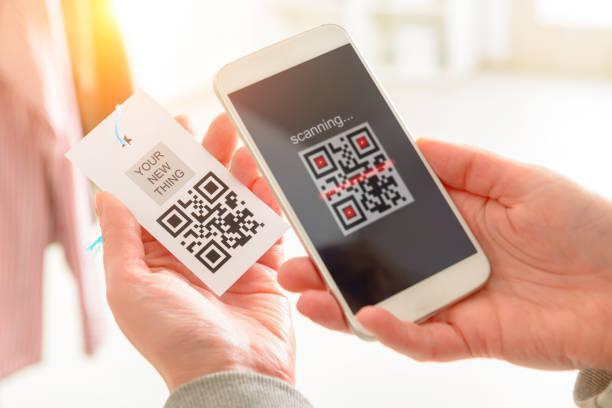qr_code: (155, 171, 266, 274), (304, 127, 408, 231)
